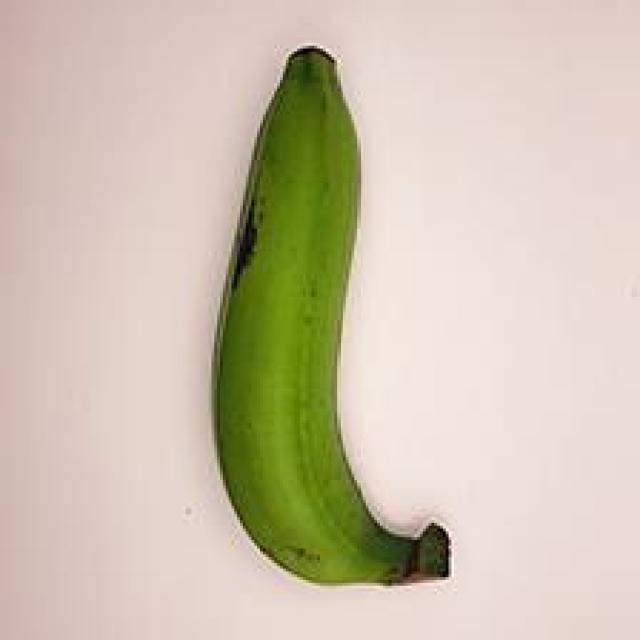Raw: (165, 19, 482, 606)
